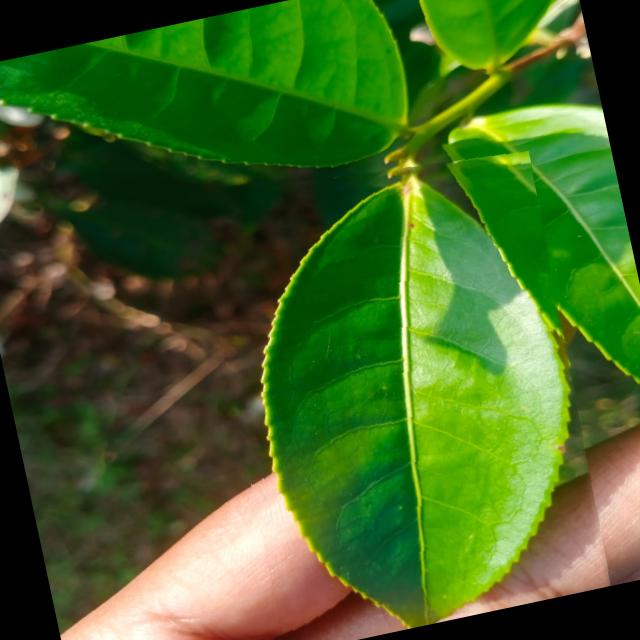Category D(7+ days, Not for Tea): (189, 125, 620, 640)
